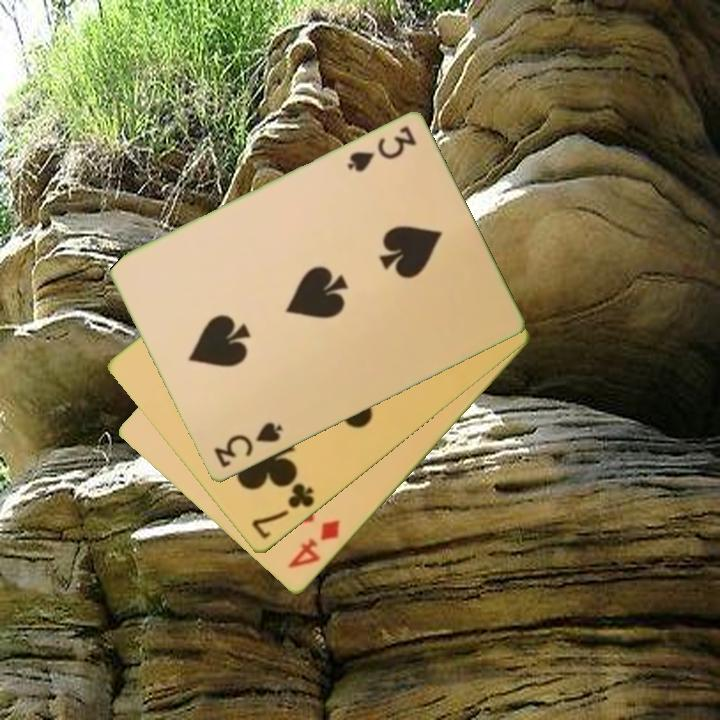3s: (343, 123, 419, 176), (210, 419, 285, 471)
4d: (284, 516, 343, 573)
7c: (248, 479, 318, 543)
